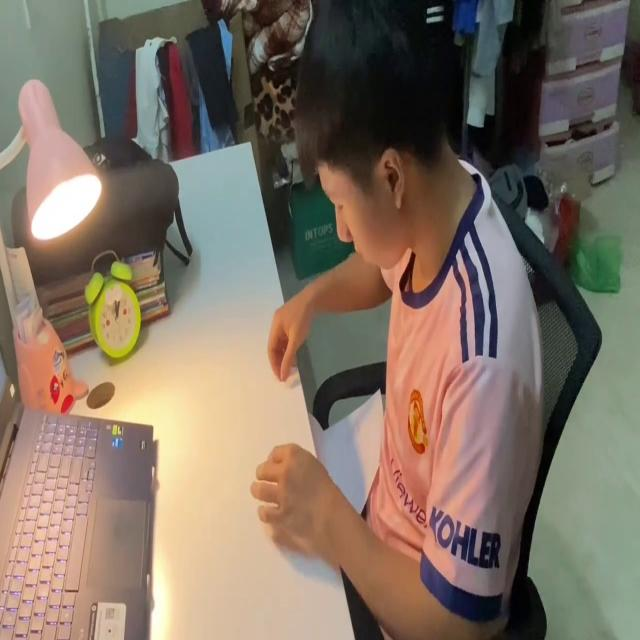book: (302, 388, 392, 505)
laptop: (0, 348, 156, 640)
student: (254, 0, 544, 640)
